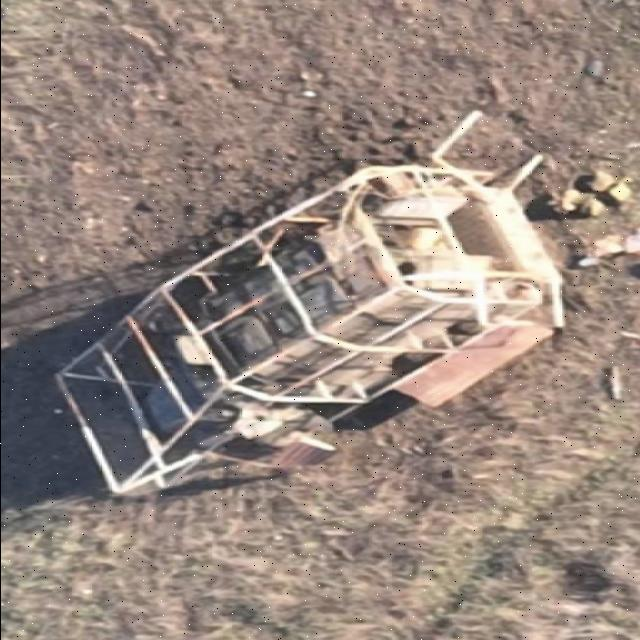TRUCK: (45, 158, 567, 502)
